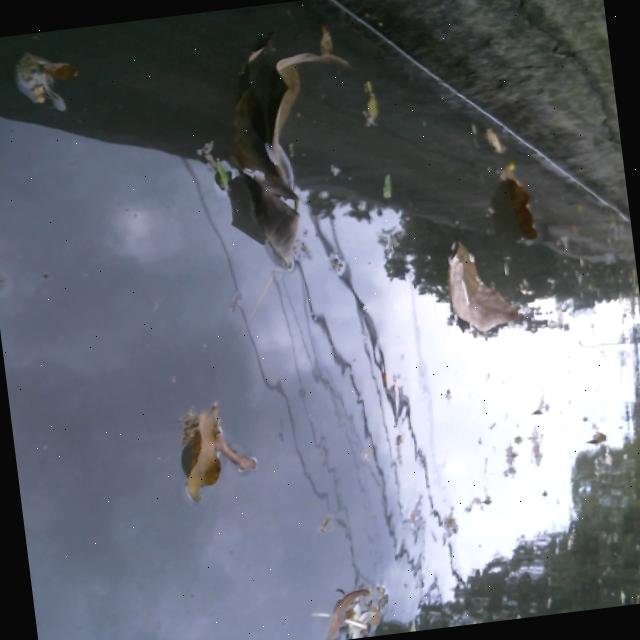Big-leaf: (233, 36, 367, 202), (227, 167, 320, 280), (438, 233, 524, 337), (175, 406, 228, 499), (495, 158, 551, 243)
Small-leaf: (3, 45, 85, 125), (309, 580, 376, 640), (209, 420, 259, 477), (470, 118, 509, 155), (357, 76, 382, 129), (309, 508, 344, 535), (374, 168, 398, 201), (583, 426, 611, 449)
